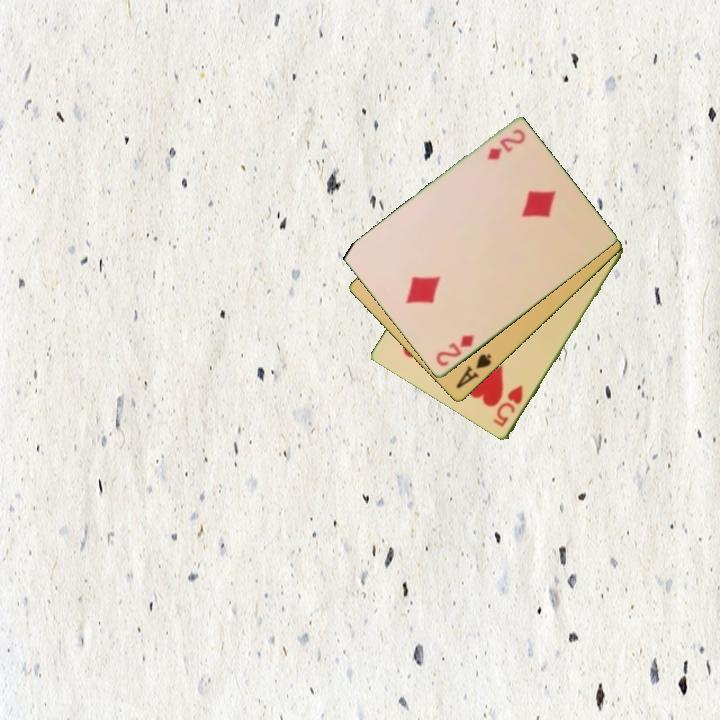2d: (432, 332, 477, 370), (484, 126, 529, 163)
5h: (489, 381, 526, 430)
As: (452, 350, 495, 392)
